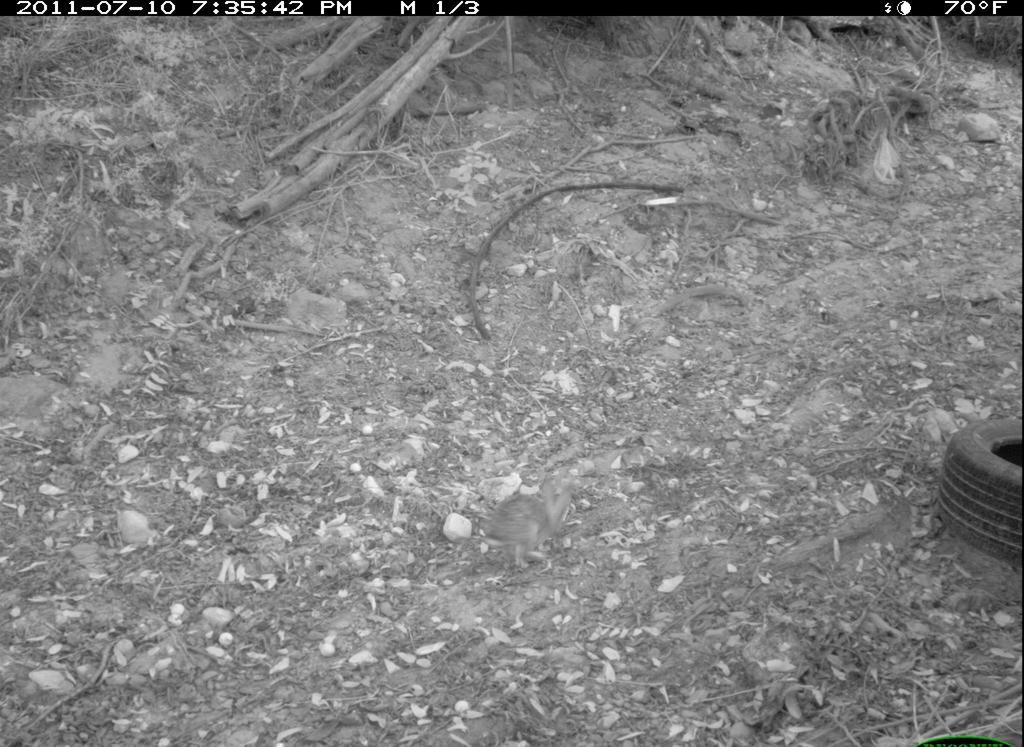rabbit: (488, 470, 616, 588)
